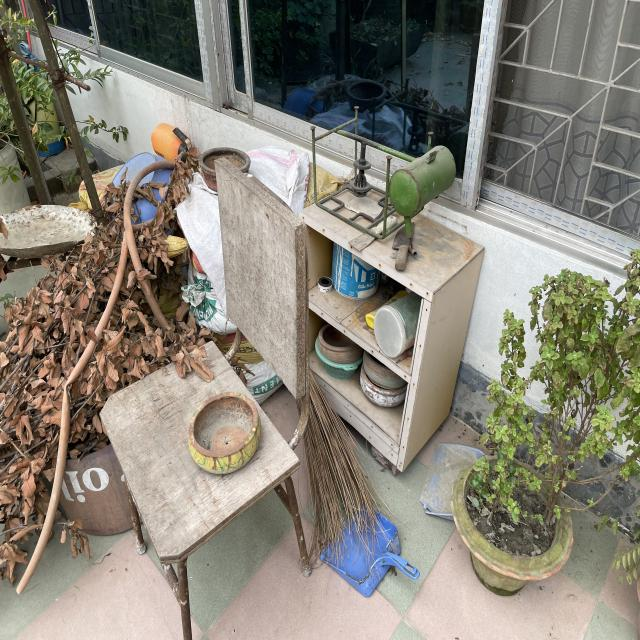Breeding Place: (451, 451, 574, 598), (188, 392, 262, 476), (0, 198, 101, 252), (202, 147, 252, 176)
